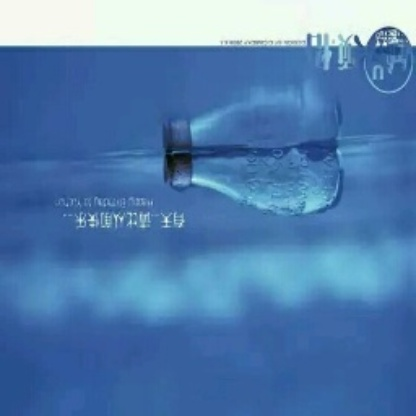bottle: (159, 139, 347, 217)
